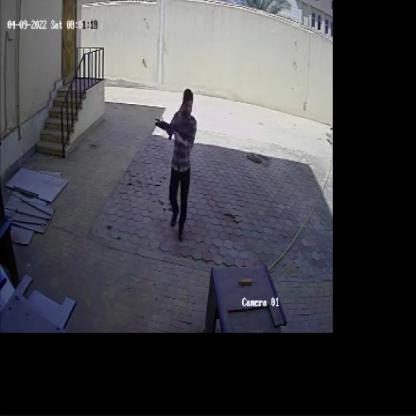handgun: (153, 113, 190, 148)
